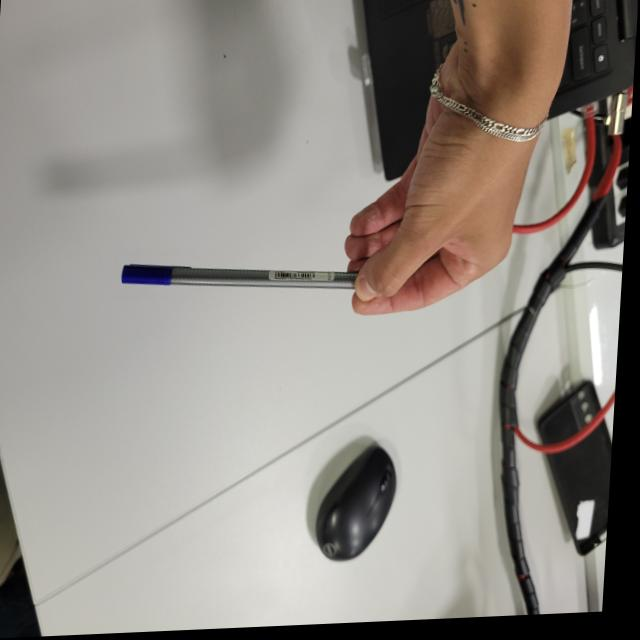caneta: (117, 254, 365, 299)
